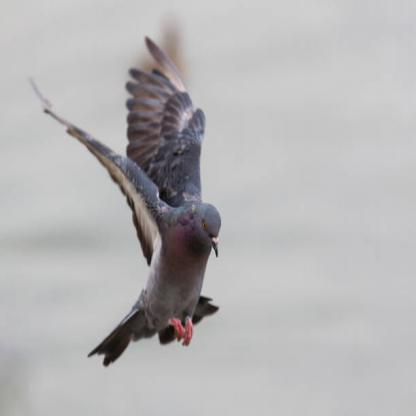Flying Rat: (48, 49, 247, 389)
